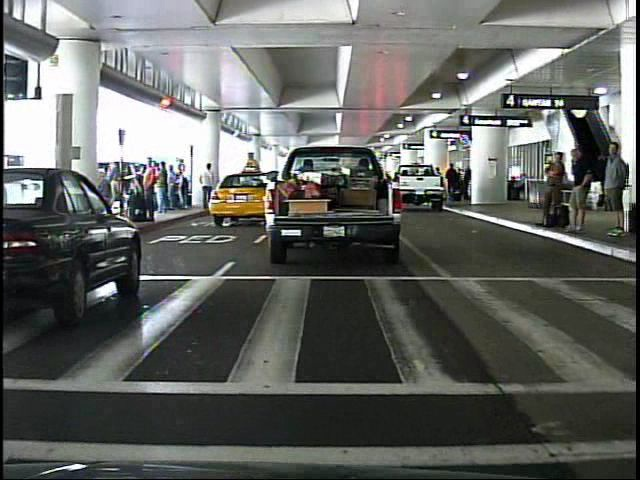person: (600, 138, 632, 243), (536, 146, 569, 234), (566, 142, 596, 238), (140, 156, 160, 224), (198, 161, 218, 214)
